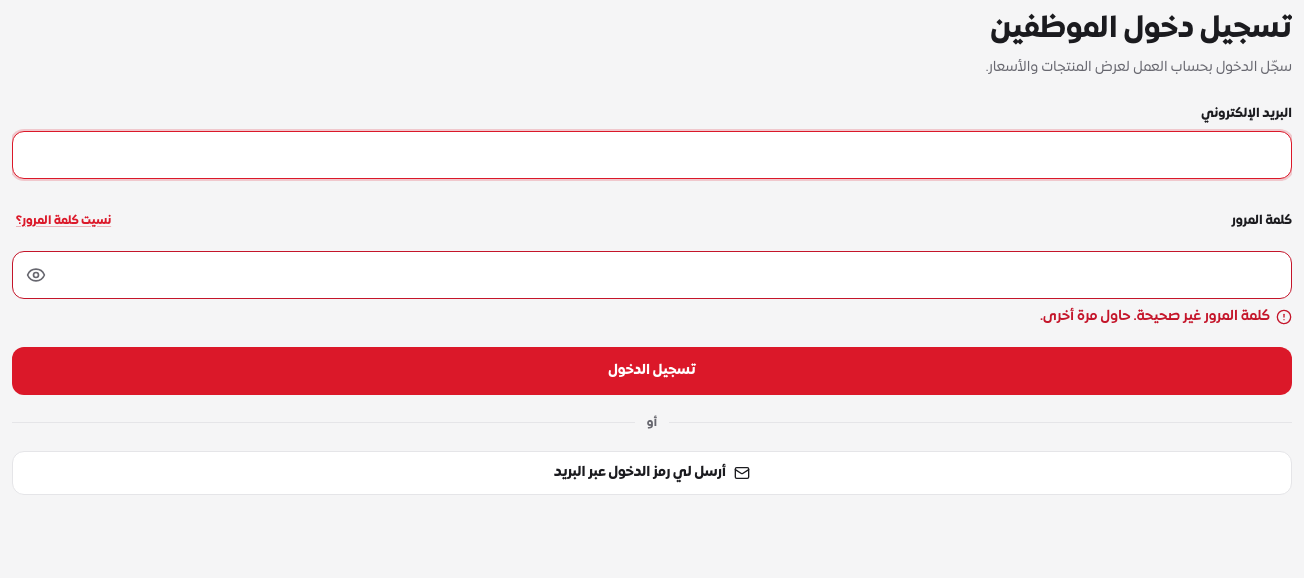
Scenario: SignInForm (custom Clerk flow) › shows field errors next to the field and other errors in a banner
The width and height of the screenshot is (1304, 578).
Type "staff@alisnad.iq" into the field labelled "البريد الإلكتروني" at (652, 155), box [12, 131, 1292, 179]
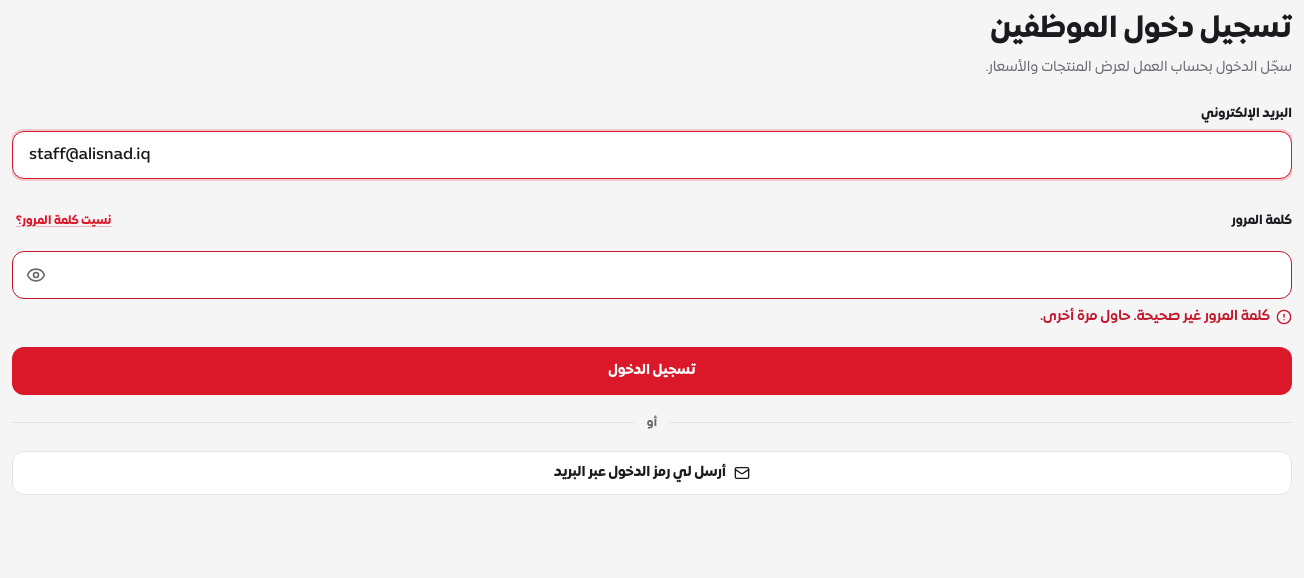
Type "wrong" into the password field labelled "كلمة المرور" at (652, 275), box [12, 251, 1292, 299]
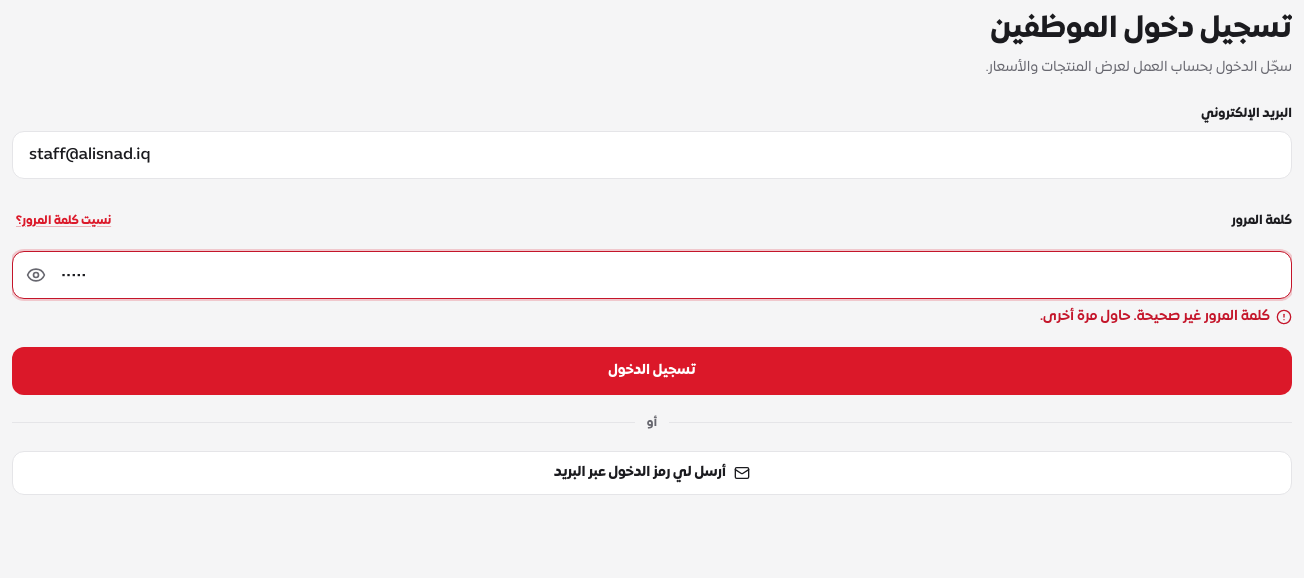
Click the button "تسجيل الدخول" at (652, 371), box [12, 347, 1292, 395]
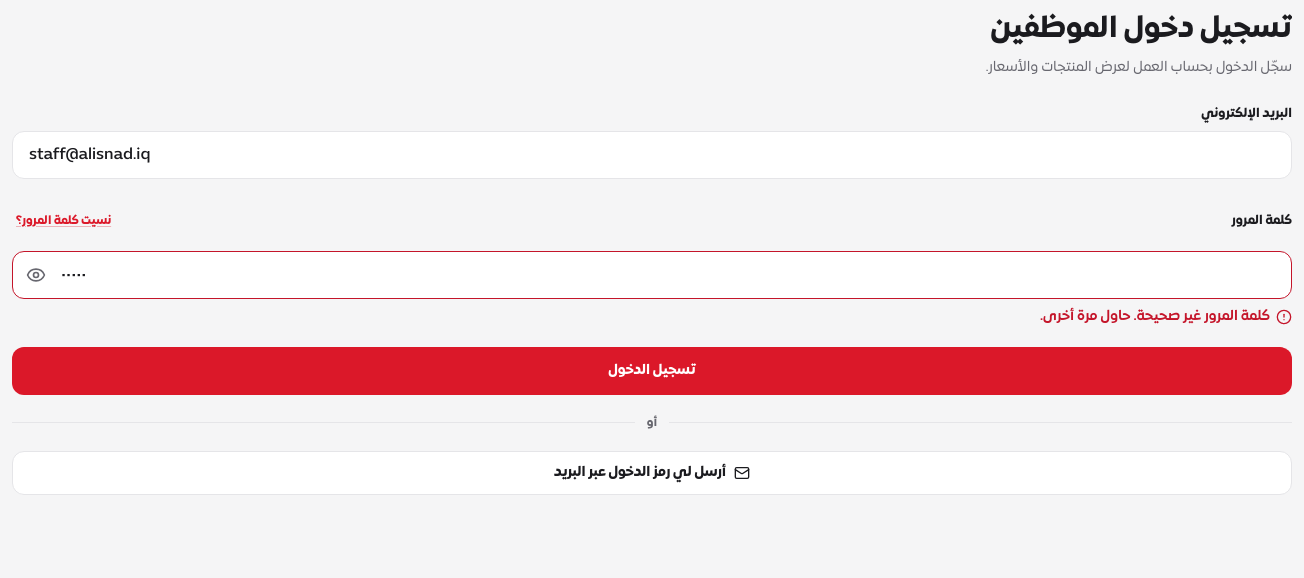
Expected: the text "كلمة المرور غير صحيحة. حاول مرة أخرى." is shown, [1040, 307, 1270, 327]
Click the button "تسجيل الدخول" at (652, 371), box [12, 347, 1292, 395]
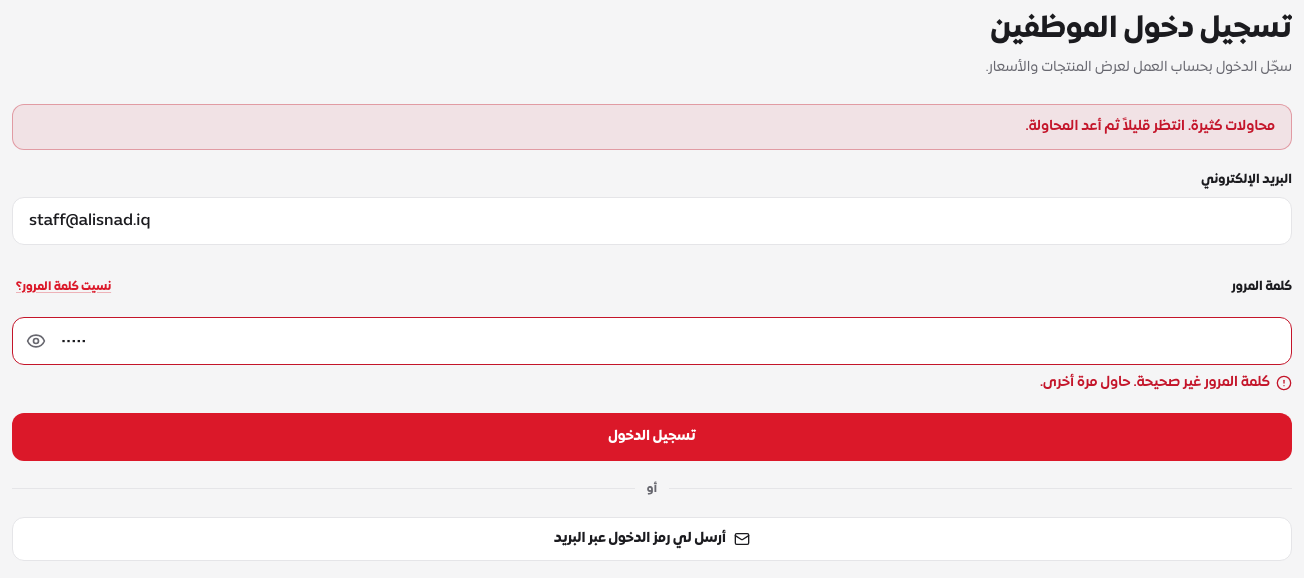
Now the message reads "محاولات كثيرة. انتظر قليلاً ثم أعد المحاولة.", box [1026, 118, 1275, 135]
